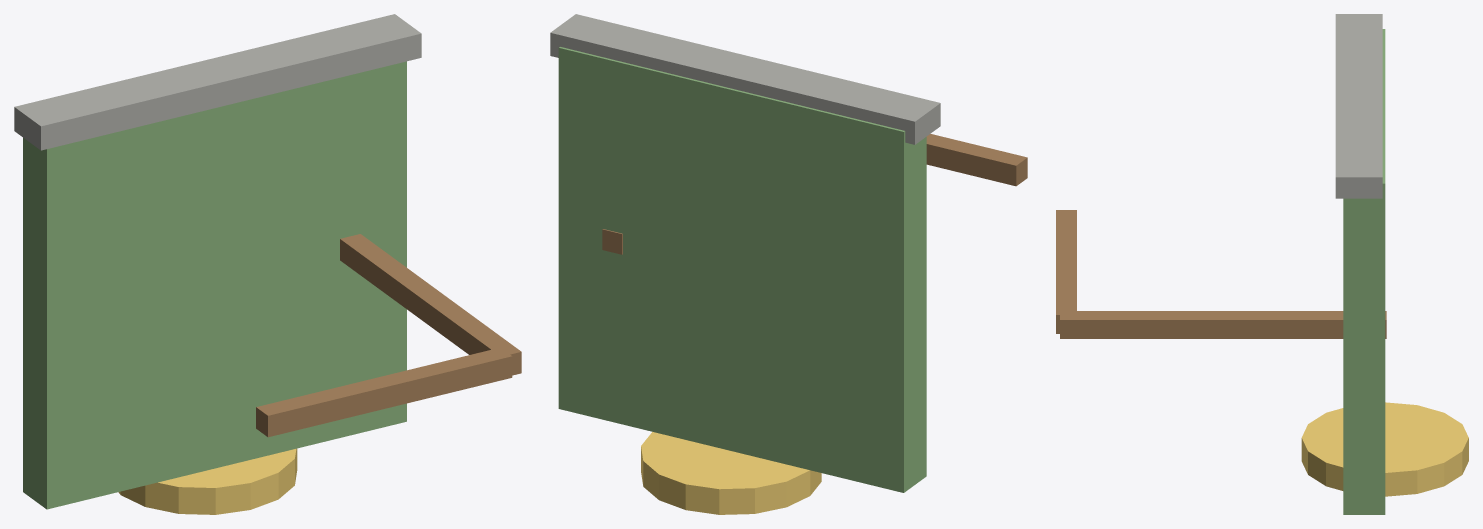
Rendered from 23_TrongDong.glb.
The picture shows the model from 3 angles, left to right: view 1: azimuth 30°, elevation 25°; view 2: azimuth 150°, elevation 25°; view 3: azimuth 270°, elevation 25°; orthographic projection. The views are drawn at different scales.
Parts seen in each view (by area): view 1: base, edge, top, gong, frame; view 2: base, edge, gong, top; view 3: base, gong, edge, frame, top.
Part boxes in pixels (x1,y1,x2,y2): base: (23, 61, 406, 509); edge: (14, 14, 421, 150); top: (256, 349, 512, 437); gong: (118, 448, 297, 514); frame: (340, 234, 521, 375); base: (558, 47, 926, 492); edge: (550, 14, 940, 144); gong: (641, 432, 821, 514); top: (926, 134, 1027, 186); base: (1343, 29, 1385, 514); gong: (1301, 402, 1468, 496); edge: (1335, 14, 1382, 198); frame: (1060, 311, 1386, 338); top: (1056, 210, 1076, 333).
Bounding box in the file's own units: 1.48 × 1.55 × 1.58.
